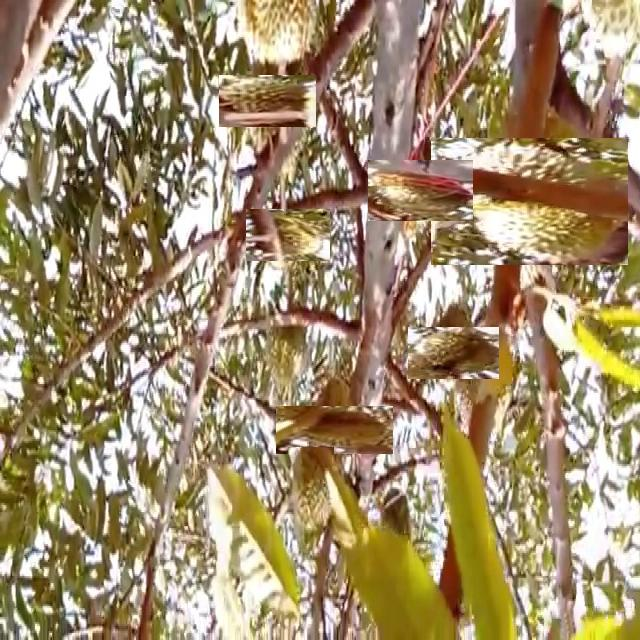durian: (448, 120, 611, 282), (379, 148, 462, 232), (294, 389, 376, 471), (230, 64, 306, 138), (236, 2, 320, 67), (418, 316, 490, 388), (253, 201, 322, 269), (288, 447, 334, 542)
